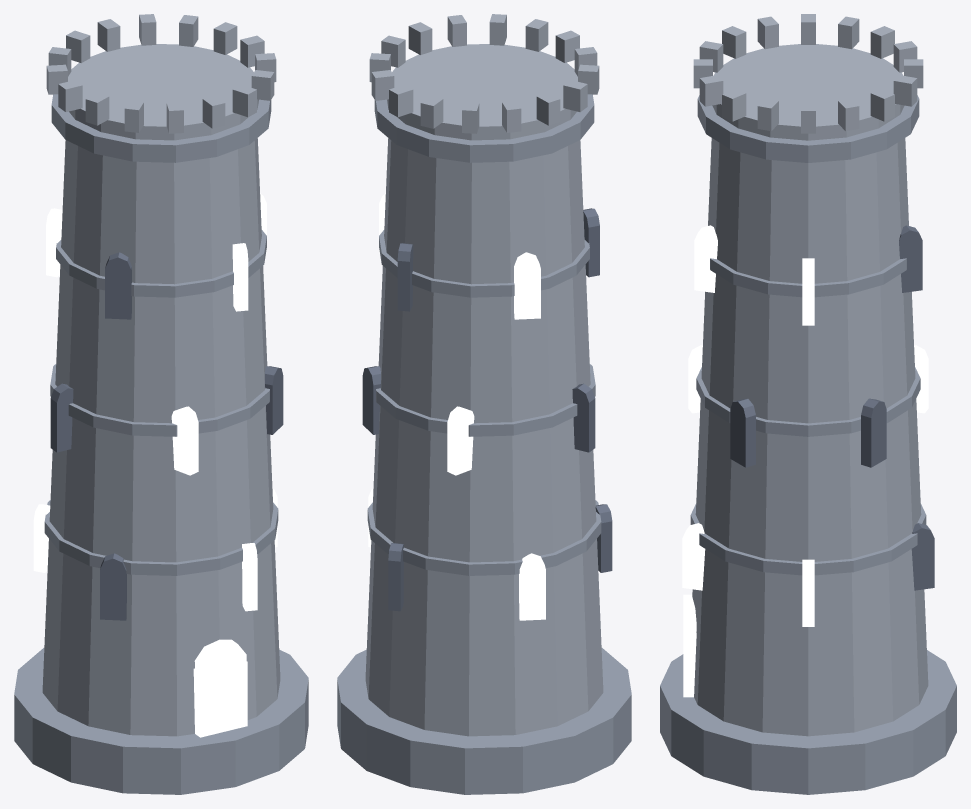
File: moontower.glb
3 renders of one model, left to right at view 1: azimuth 30°, elevation 25°; view 2: azimuth 150°, elevation 25°; view 3: azimuth 270°, elevation 25°, orthographic.
Visible parts, largest first — view 1: shaft, base, crown, cornice, door, band0, band1, band2, door_cap, win_2_3, win_1_3, win_0_3 (+21 smaller); view 2: shaft, base, crown, cornice, band0, band1, band2, win_2_2, win_1_1, win_0_2, win_1_2, win_1_0 (+19 smaller); view 3: shaft, base, crown, cornice, band0, band1, band2, win_1_4, win_1_0, win_0_4, win_2_4, win_2_1 (+17 smaller).
Boxes of the visible parts, x1,y1,x2,y2 form: shaft: (42, 138, 280, 736); base: (14, 648, 308, 794); crown: (68, 44, 258, 140); cornice: (51, 94, 271, 162); door: (193, 661, 247, 737); band0: (44, 500, 278, 575); band1: (50, 364, 269, 436); band2: (56, 230, 266, 297); door_cap: (194, 639, 246, 692); win_2_3: (105, 267, 131, 319); win_1_3: (172, 419, 198, 475); win_0_3: (100, 570, 126, 620); shaft: (365, 138, 603, 736); base: (337, 648, 631, 794); crown: (387, 44, 577, 140); cornice: (374, 94, 594, 162); band0: (367, 500, 601, 575); band1: (376, 364, 595, 436); band2: (379, 230, 589, 297); win_2_2: (514, 267, 540, 319); win_1_1: (447, 419, 474, 475); win_0_2: (519, 570, 545, 620); win_1_2: (573, 398, 595, 452); win_1_0: (362, 375, 380, 434); shaft: (692, 138, 928, 736); base: (660, 650, 956, 794); crown: (712, 44, 904, 140); cornice: (697, 95, 919, 162); band0: (690, 503, 926, 575); band1: (696, 367, 920, 436); band2: (710, 258, 906, 297); win_1_4: (730, 409, 755, 467); win_1_0: (861, 409, 886, 467); win_0_4: (682, 538, 705, 590); win_2_4: (694, 240, 717, 292); win_2_1: (899, 241, 922, 292).
Size of the model in its own units: 520 by 1294 by 520.
